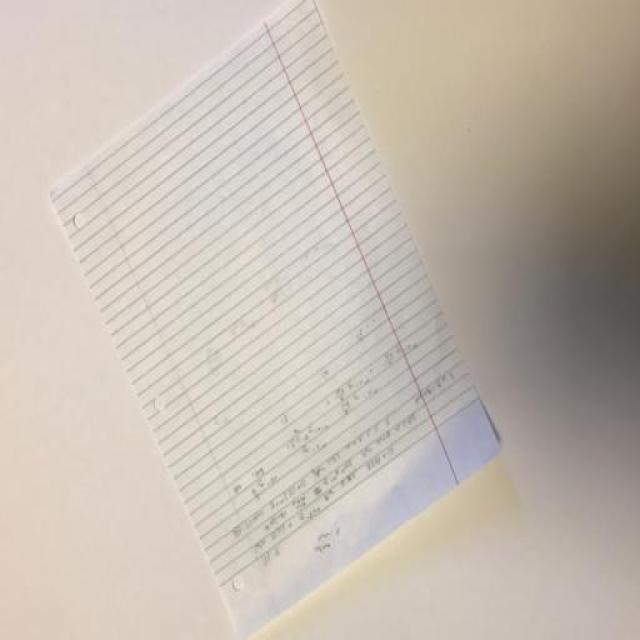paper: (47, 0, 502, 638)
